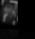pot: (0, 0, 18, 29)
